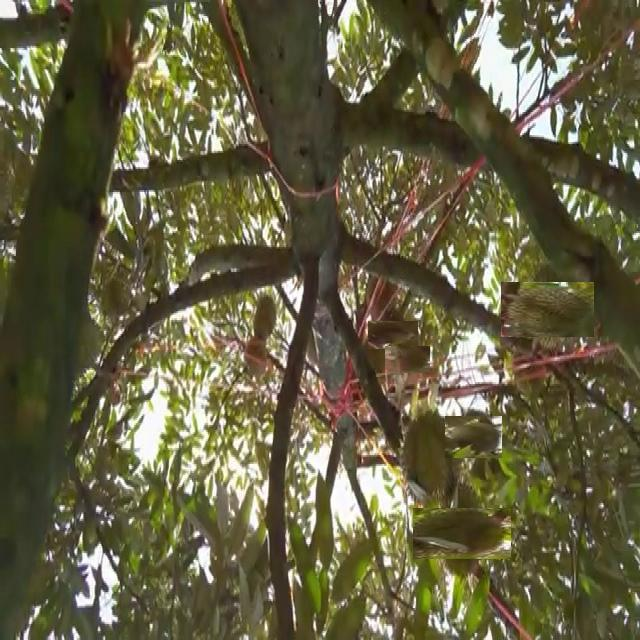durian: (398, 412, 465, 514), (424, 496, 499, 572), (510, 272, 585, 346), (449, 412, 499, 462), (241, 335, 273, 386), (373, 316, 412, 354), (389, 340, 426, 378), (250, 292, 277, 342)
